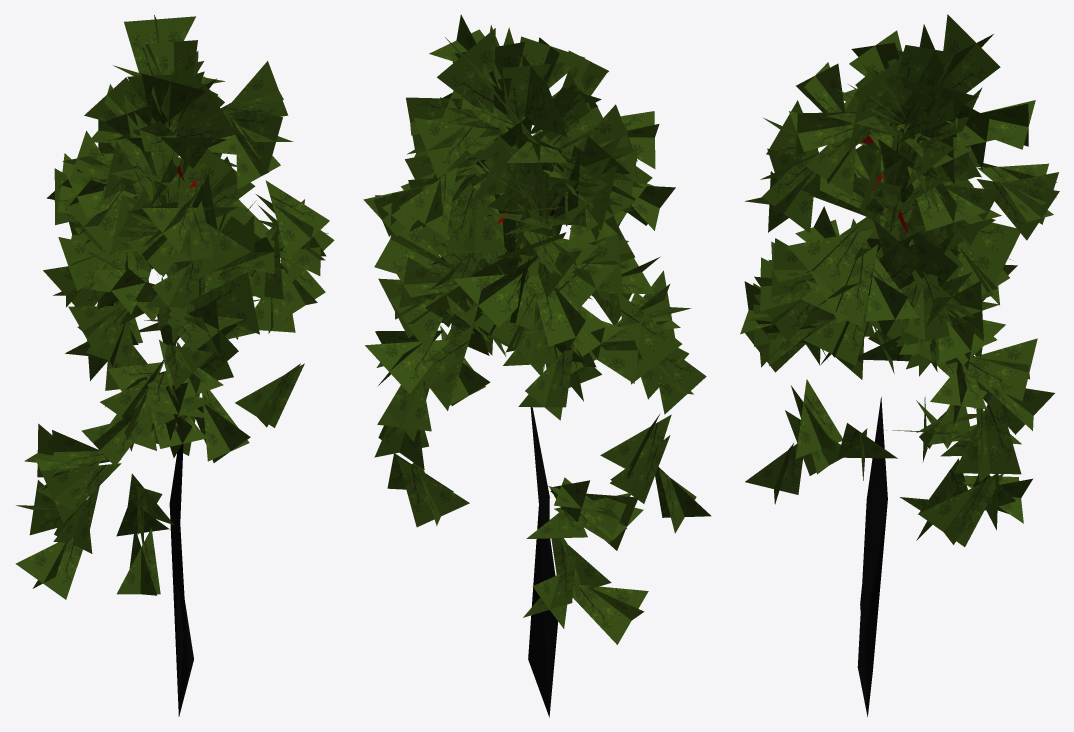
The model's file is birch6 lod3.FBX.
The picture shows the model from 3 angles, left to right: view 1: azimuth 30°, elevation 25°; view 2: azimuth 150°, elevation 25°; view 3: azimuth 270°, elevation 25°; orthographic projection. The views are drawn at different scales.
Parts seen in each view (by area): view 1: birch6_LOD3; view 2: birch6_LOD3; view 3: birch6_LOD3.
Part boxes in pixels (box(x1,y1,x2,y2)): birch6_LOD3: box(15, 15, 334, 716); birch6_LOD3: box(363, 14, 711, 717); birch6_LOD3: box(740, 14, 1059, 716).
Bounding box in the file's own units: 54591 × 127053 × 51833.
